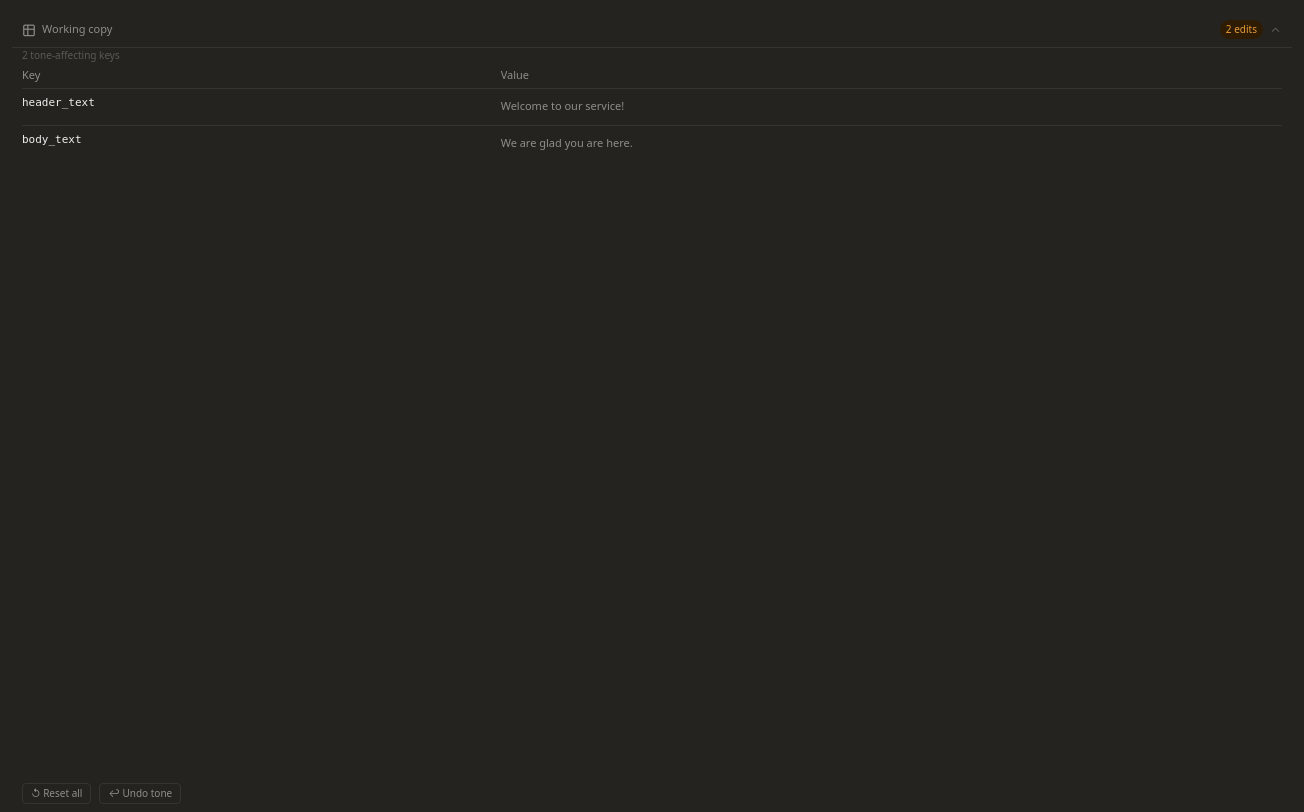
Test: WorkingCopy › saves an edited value from the inline editor
Click the button "Welcome to our service!": {"x": 562, "y": 106} top-left (501, 94), bottom-right (1282, 118)
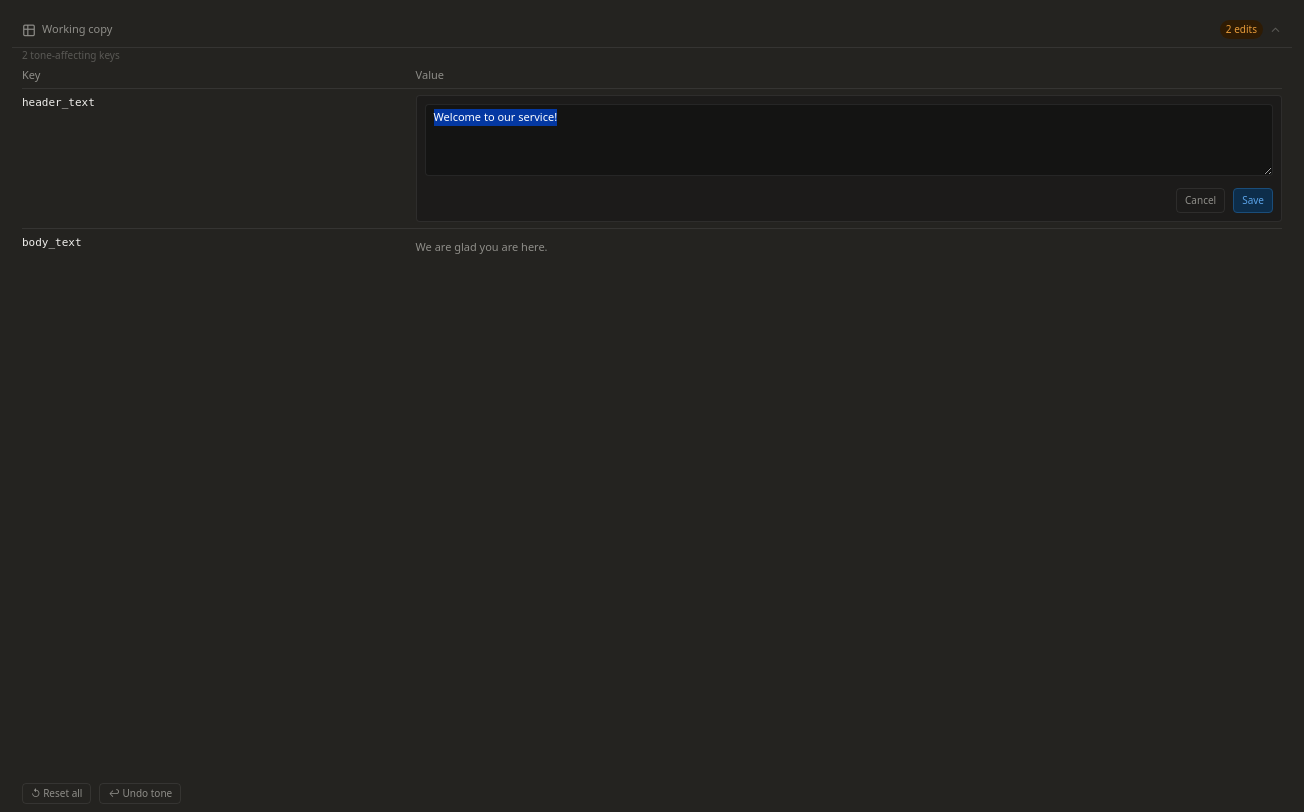
Replace the text in the text box with "Updated header": {"x": 849, "y": 140} top-left (425, 104), bottom-right (1273, 176)
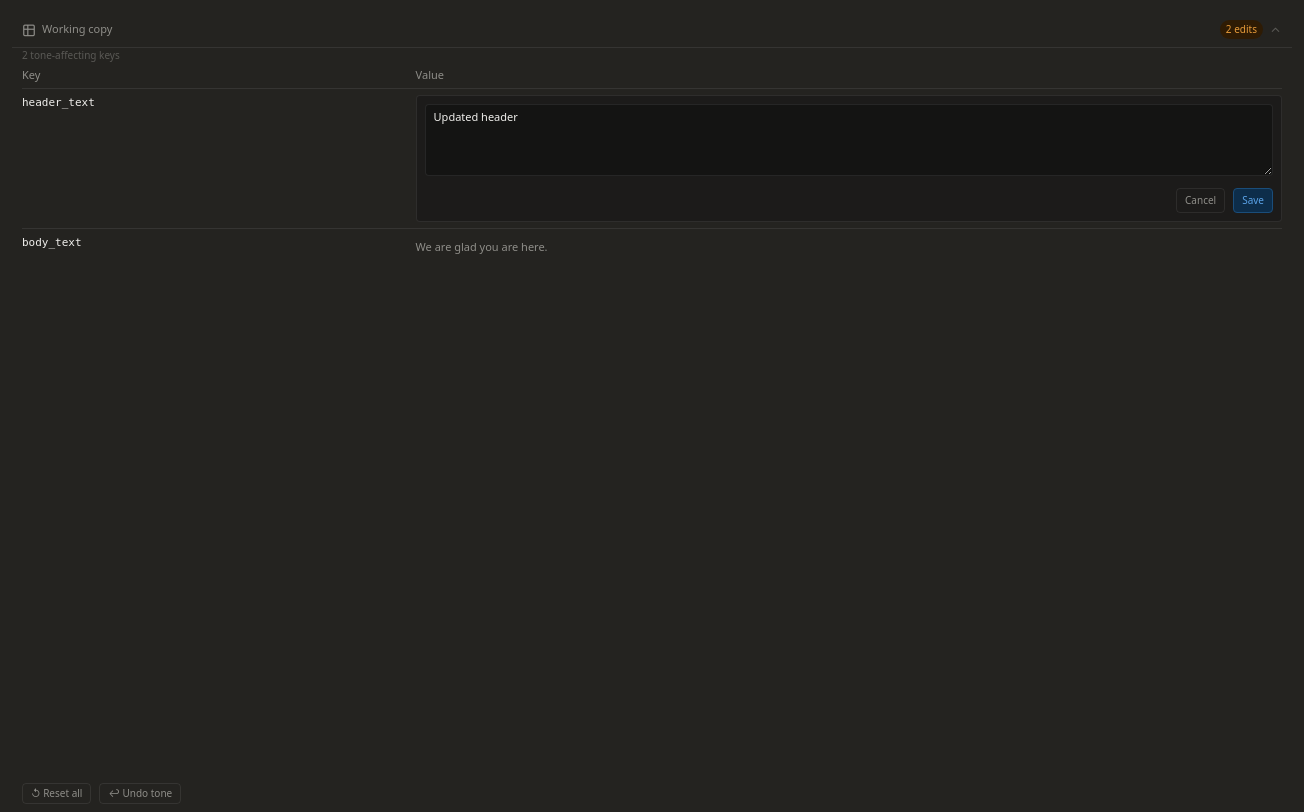
Click the button "Save": {"x": 1253, "y": 200} top-left (1233, 188), bottom-right (1273, 213)
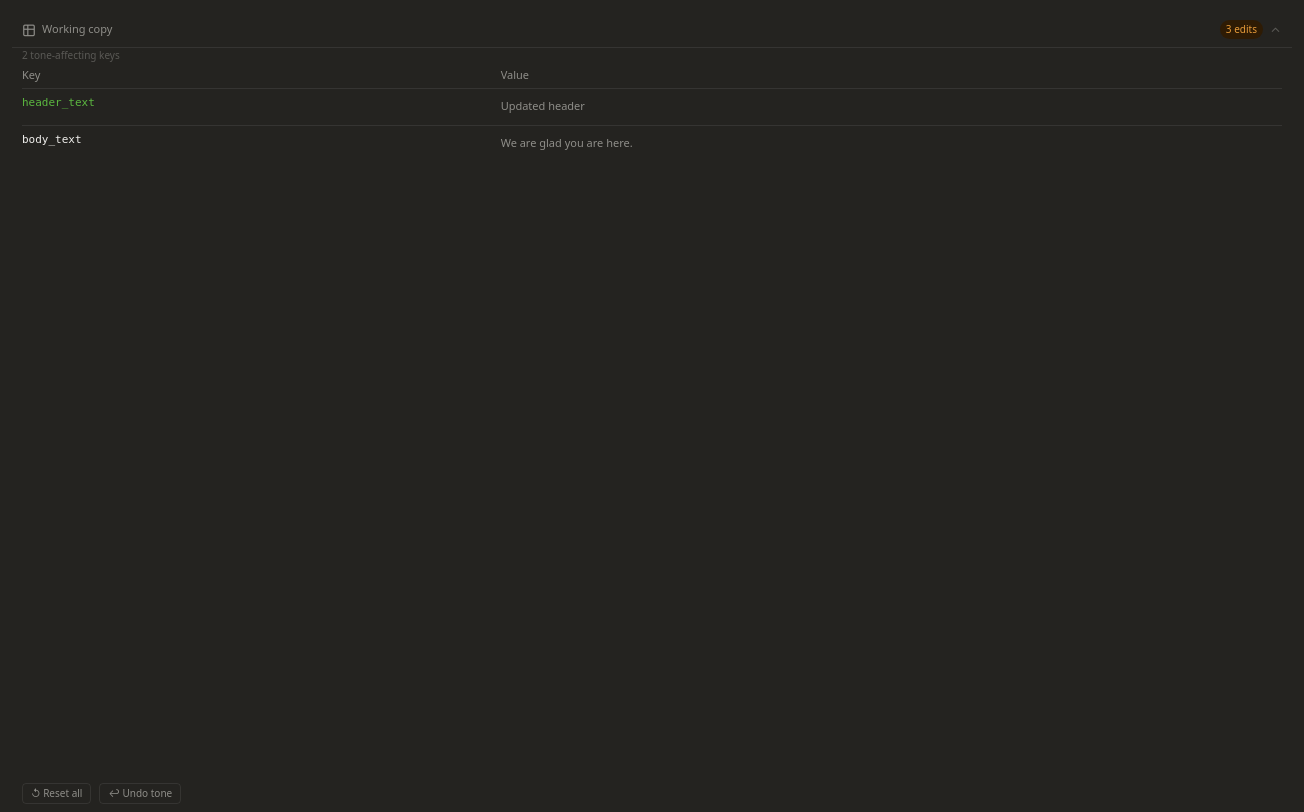
Result: the button "Updated header" is shown at top-left (501, 94), bottom-right (1282, 118)
